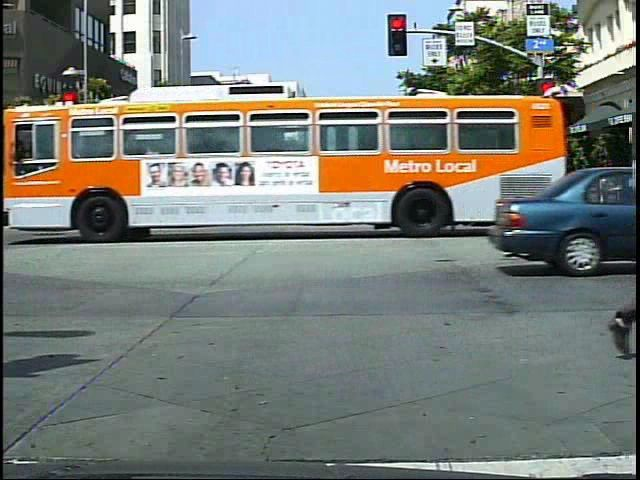person: (288, 165, 320, 229), (338, 166, 368, 230), (189, 168, 218, 234), (547, 160, 570, 211)
